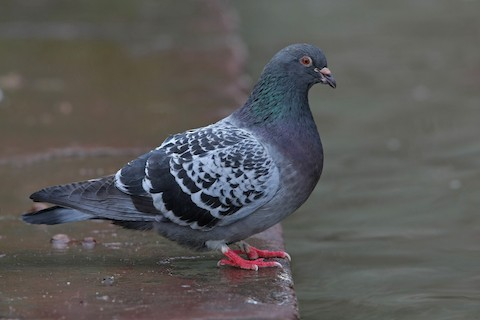pigeon: (20, 40, 341, 274)
